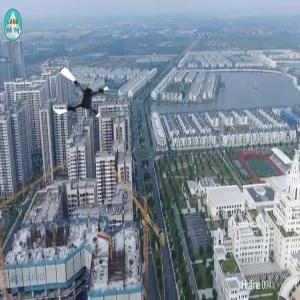drone: (49, 65, 109, 125)
